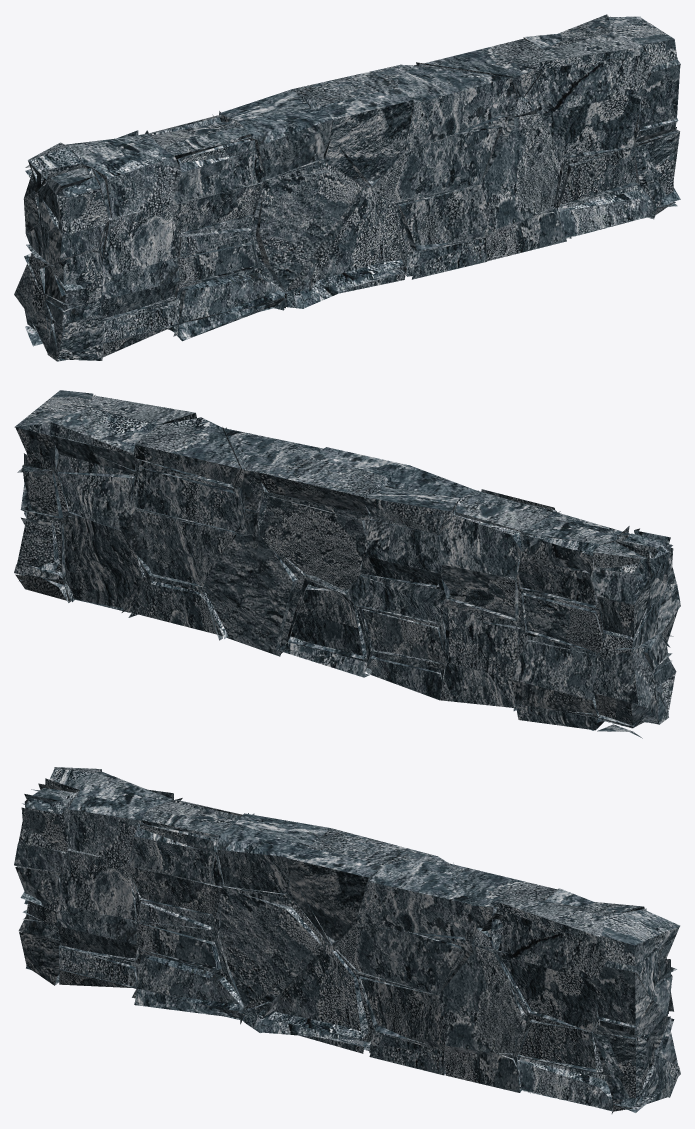
File: Wall_Stones_A.fbx
The picture shows the model from 3 angles, top to bottom: view 1: azimuth 30°, elevation 25°; view 2: azimuth 150°, elevation 25°; view 3: azimuth 330°, elevation 25°; orthographic projection.
Visible parts, largest first — view 1: Wall_Stones_A_LOD0; view 2: Wall_Stones_A_LOD0; view 3: Wall_Stones_A_LOD0.
Part boxes in pixels (x1,y1,x2,y2): Wall_Stones_A_LOD0: [14, 14, 680, 361]; Wall_Stones_A_LOD0: [14, 390, 680, 738]; Wall_Stones_A_LOD0: [14, 767, 680, 1113].
Size of what is drawn, in the model's own units: 2043 by 594 by 263.
